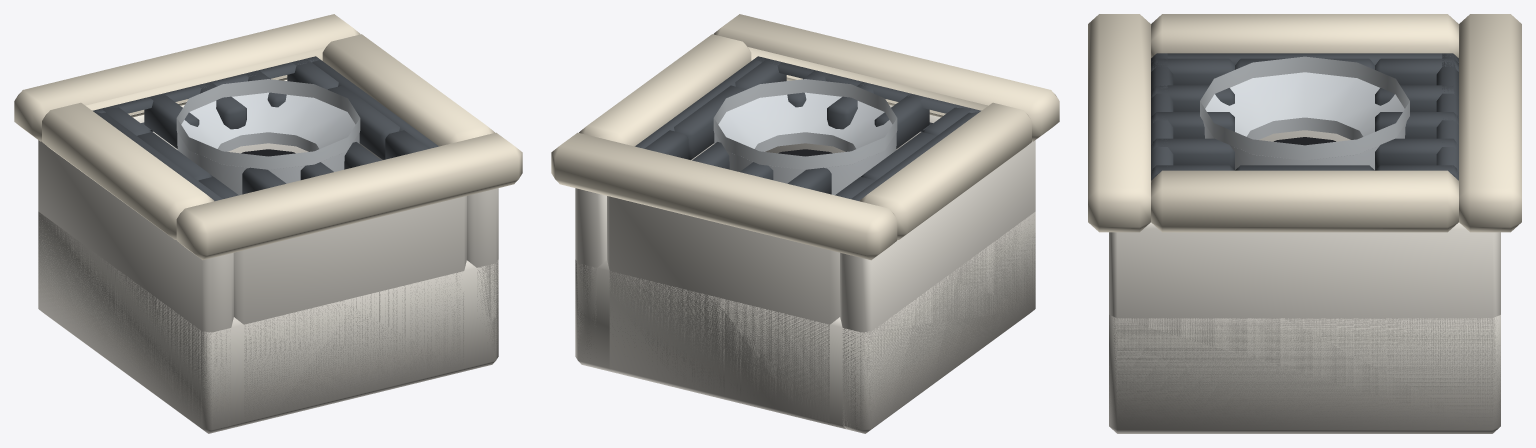
File: SM_FloorSink_FullGrate_01.glb
3 views of the same model, side by side, from view 1: azimuth 30°, elevation 25°; view 2: azimuth 150°, elevation 25°; view 3: azimuth 270°, elevation 25° (orthographic). The views are drawn at different scales.
Parts seen in each view (by area): view 1: SM_FloorSink_FullGrate_01; view 2: SM_FloorSink_FullGrate_01; view 3: SM_FloorSink_FullGrate_01.
Part boxes in pixels (x1,y1,x2,y2): SM_FloorSink_FullGrate_01: (14, 14, 522, 433); SM_FloorSink_FullGrate_01: (551, 14, 1059, 433); SM_FloorSink_FullGrate_01: (1088, 14, 1521, 433).
Bounding box in the file's own units: 0.31 × 0.2 × 0.31.
1 material, 1 textured.
